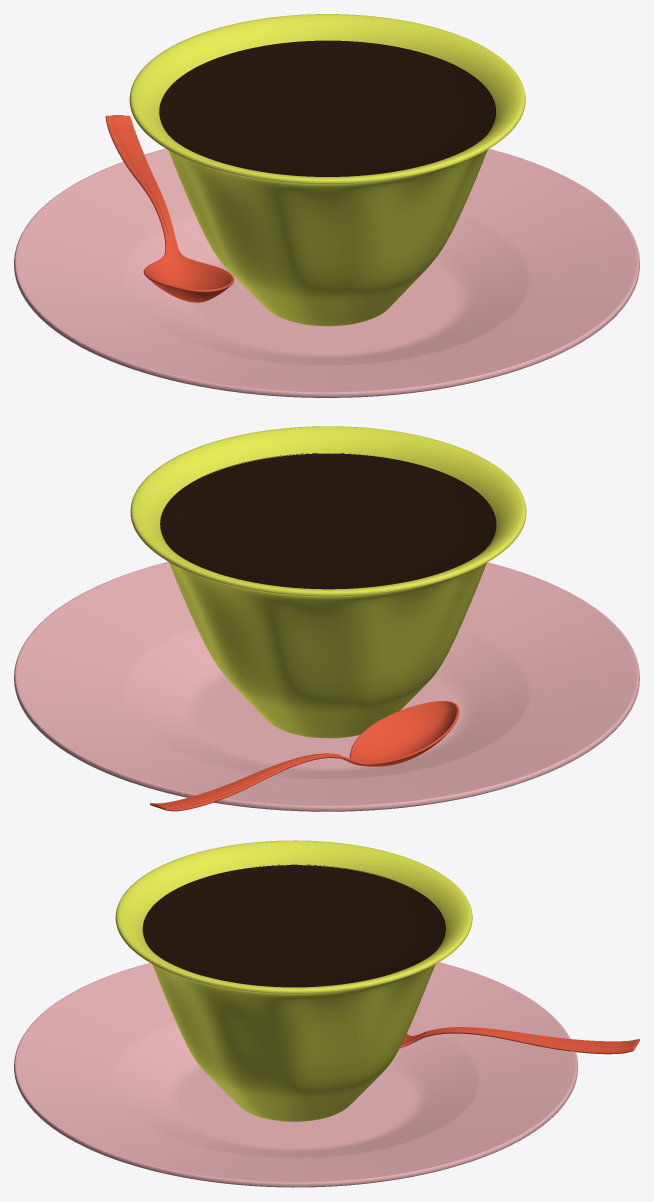
Rendered from Sini.fbx.
The picture shows the model from 3 angles, top to bottom: view 1: azimuth 30°, elevation 25°; view 2: azimuth 150°, elevation 25°; view 3: azimuth 270°, elevation 25°; orthographic projection. The views are drawn at different scales.
Visible parts, largest first — view 1: base 3, cup 3, Cup.003, spoon 3; view 2: base 3, cup 3, Cup.003, spoon 3; view 3: base 3, cup 3, Cup.003, spoon 3.
Boxes of the visible parts, x1,y1,x2,y2 form: base 3: [14, 148, 639, 397]; cup 3: [129, 14, 525, 326]; Cup.003: [159, 40, 495, 176]; spoon 3: [105, 115, 234, 302]; base 3: [14, 561, 639, 811]; cup 3: [130, 426, 526, 738]; Cup.003: [160, 453, 496, 589]; spoon 3: [150, 701, 459, 811]; base 3: [14, 962, 577, 1187]; cup 3: [115, 840, 472, 1121]; Cup.003: [142, 864, 445, 987]; spoon 3: [400, 1027, 639, 1054].
Size of the model in its own units: 7.64 by 2.81 by 8.47.
